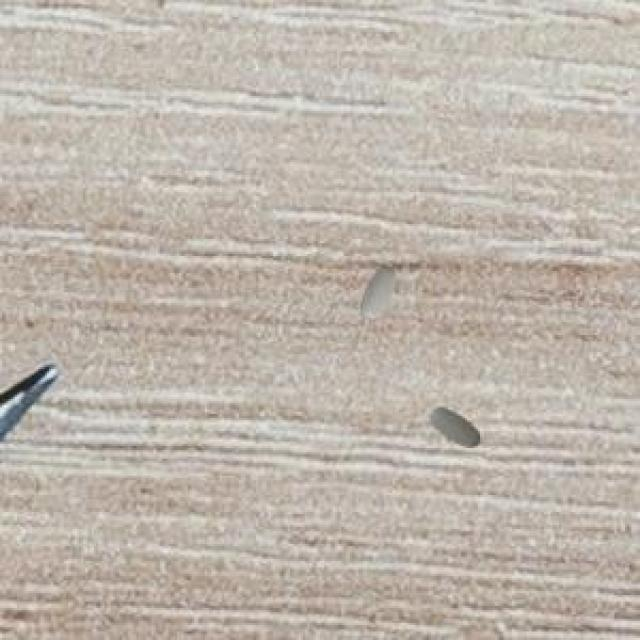Neozep: (414, 401, 489, 453), (354, 252, 401, 331)
